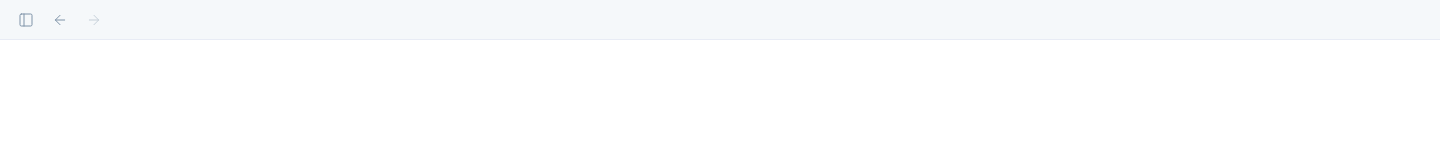
Test case: title bar › Back and Forward walk the screens visited, and are off at either end
Later steps or results of the test are not shown.
Expected: the button named "Forward" is disabled, [80,6,108,34]
Click the button named "Back". click: (60, 20)
box: [46,6,74,34]
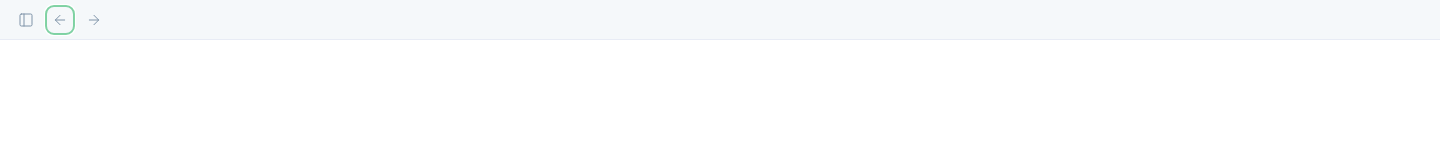
Click the button named "Back". click: (60, 20)
box: [46,6,74,34]
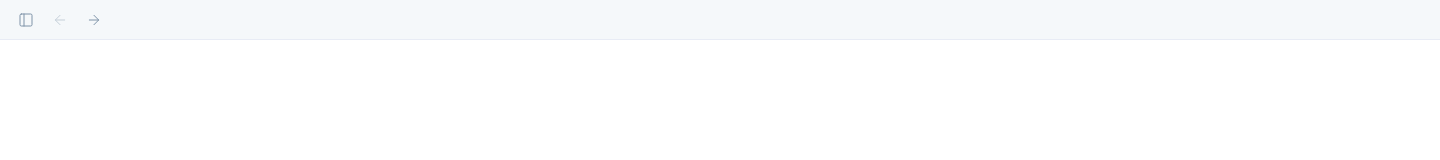
Expected: the button named "Back" is disabled, [46,6,74,34]
